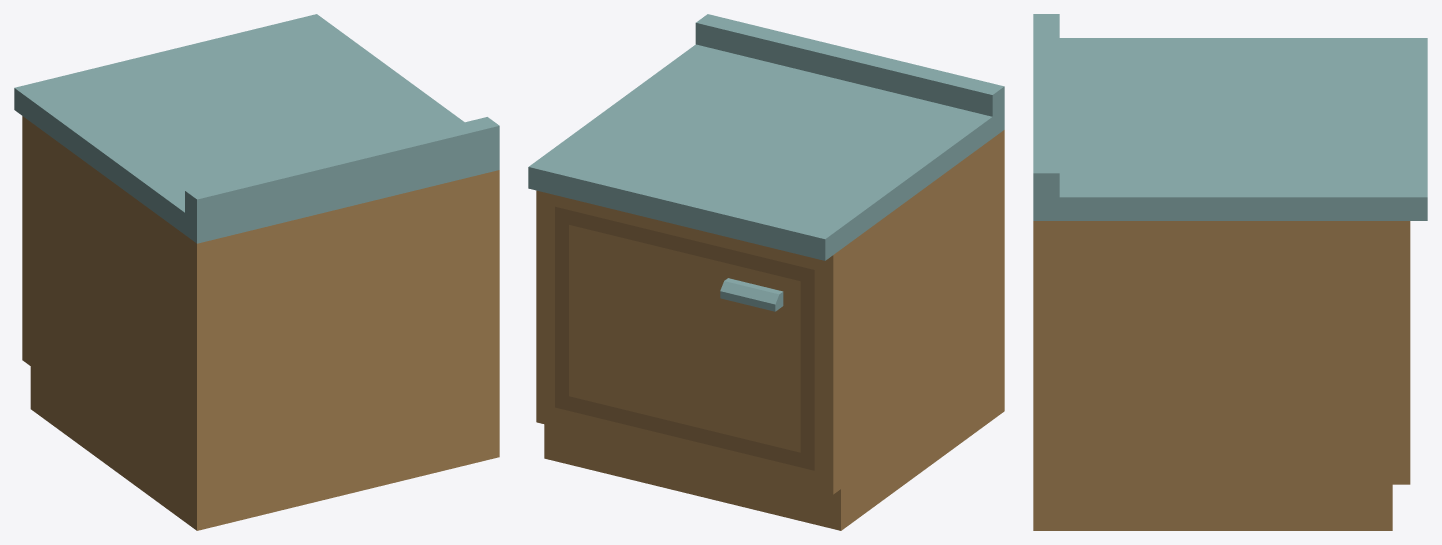
File: kitchenCabinet.glb
3 views of the same model, side by side, from view 1: azimuth 30°, elevation 25°; view 2: azimuth 150°, elevation 25°; view 3: azimuth 270°, elevation 25° (orthographic). The views are drawn at different scales.
Visible parts, largest first — view 1: kitchenCabinet; view 2: kitchenCabinet; view 3: kitchenCabinet.
Boxes of the visible parts, bbox=[...] form: kitchenCabinet: bbox=[14, 14, 499, 530]; kitchenCabinet: bbox=[528, 14, 1004, 530]; kitchenCabinet: bbox=[1033, 14, 1427, 530].
Size of the model in its own units: 0.86 by 0.9 by 0.9.
